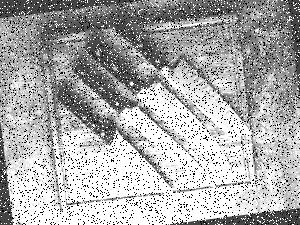knife: (75, 32, 235, 173), (103, 15, 254, 142), (74, 64, 215, 188), (50, 77, 180, 208)
